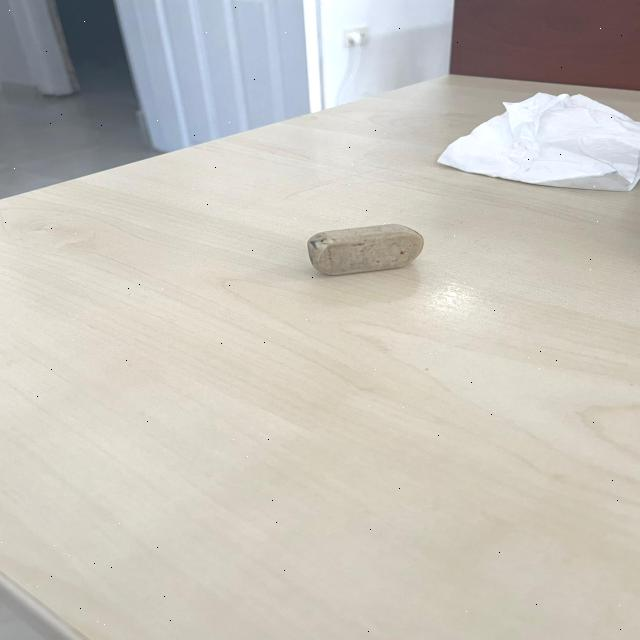eraser: (293, 214, 430, 276)
